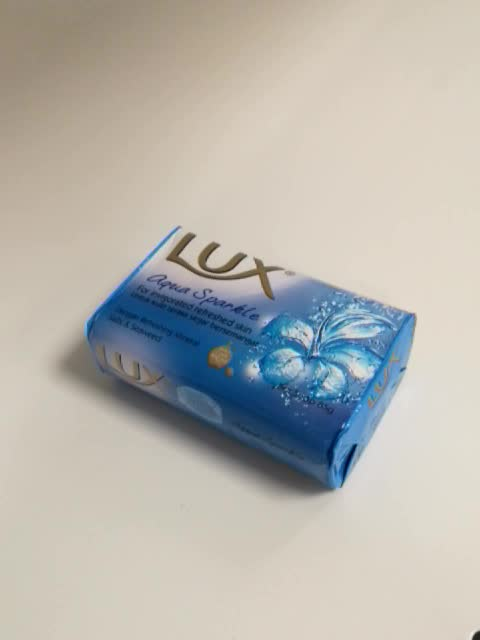soap: (81, 222, 419, 492)
